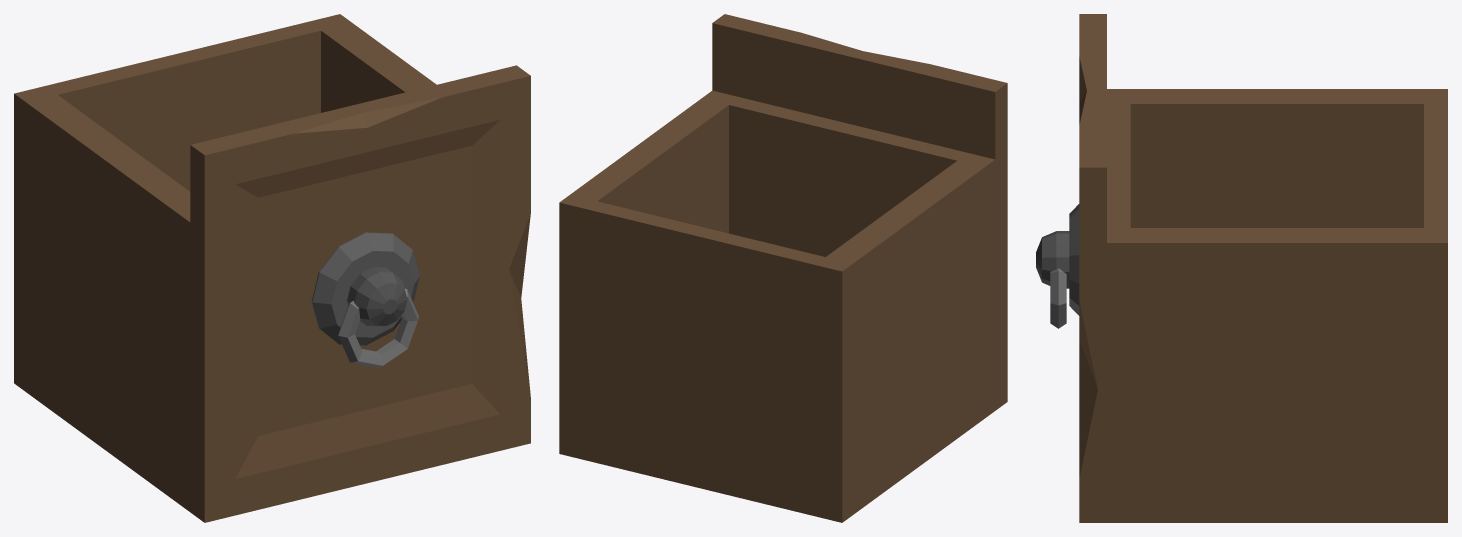
Rendered from Shelving_Cabinet_002.fbx.
The picture shows the model from 3 angles, left to right: view 1: azimuth 30°, elevation 25°; view 2: azimuth 150°, elevation 25°; view 3: azimuth 270°, elevation 25°; orthographic projection. The views are drawn at different scales.
Parts seen in each view (by area): view 1: Shelving_Cabinet_002; view 2: Shelving_Cabinet_002; view 3: Shelving_Cabinet_002.
Part boxes in pixels (x1,y1,x2,y2): Shelving_Cabinet_002: [14, 14, 530, 522]; Shelving_Cabinet_002: [559, 14, 1007, 522]; Shelving_Cabinet_002: [1036, 14, 1447, 522].
Size of the model in its own units: 0.2162 by 0.2328 by 0.2446.
